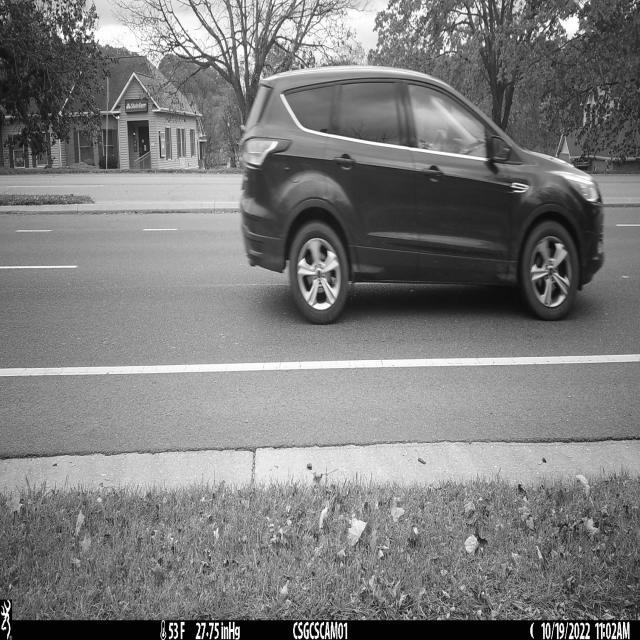SUV: (238, 66, 607, 326)
